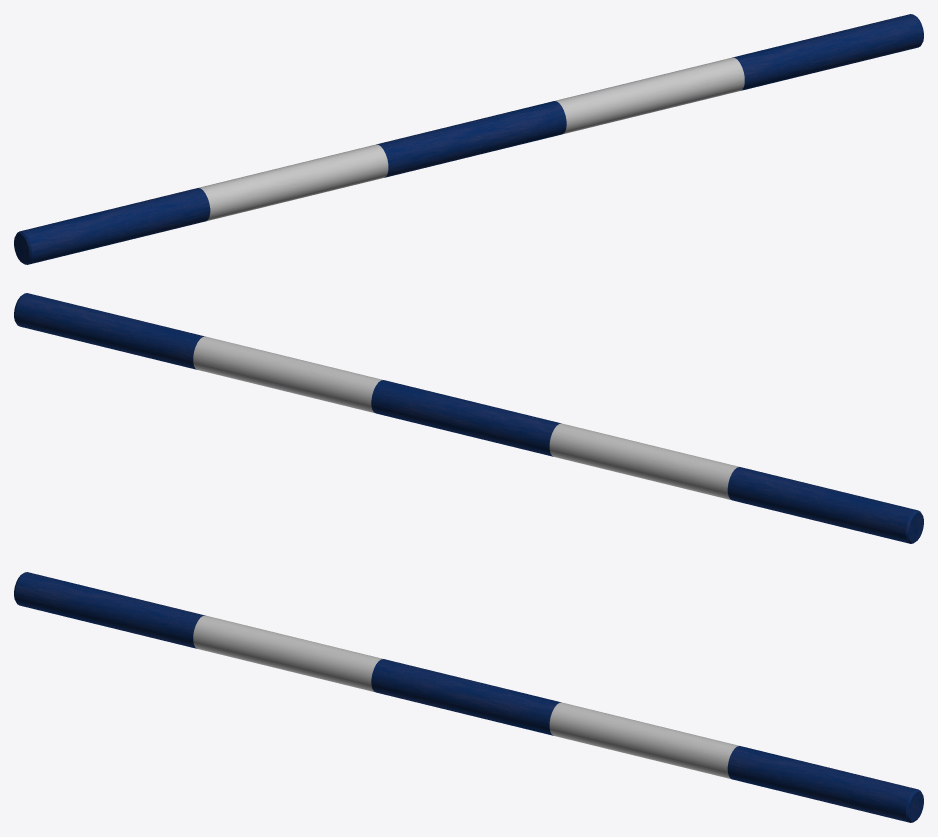
File: pole01.fbx
3 renders of one model, top to bottom at view 1: azimuth 30°, elevation 25°; view 2: azimuth 150°, elevation 25°; view 3: azimuth 330°, elevation 25°, orthographic.
Parts seen in each view (by area): view 1: pole01; view 2: pole01; view 3: pole01.
Part boxes in pixels (bbox=[...]): pole01: bbox=[14, 14, 923, 264]; pole01: bbox=[14, 293, 923, 543]; pole01: bbox=[14, 572, 923, 822].
Bounding box in the file's own units: 120 × 3.96 × 3.96.
